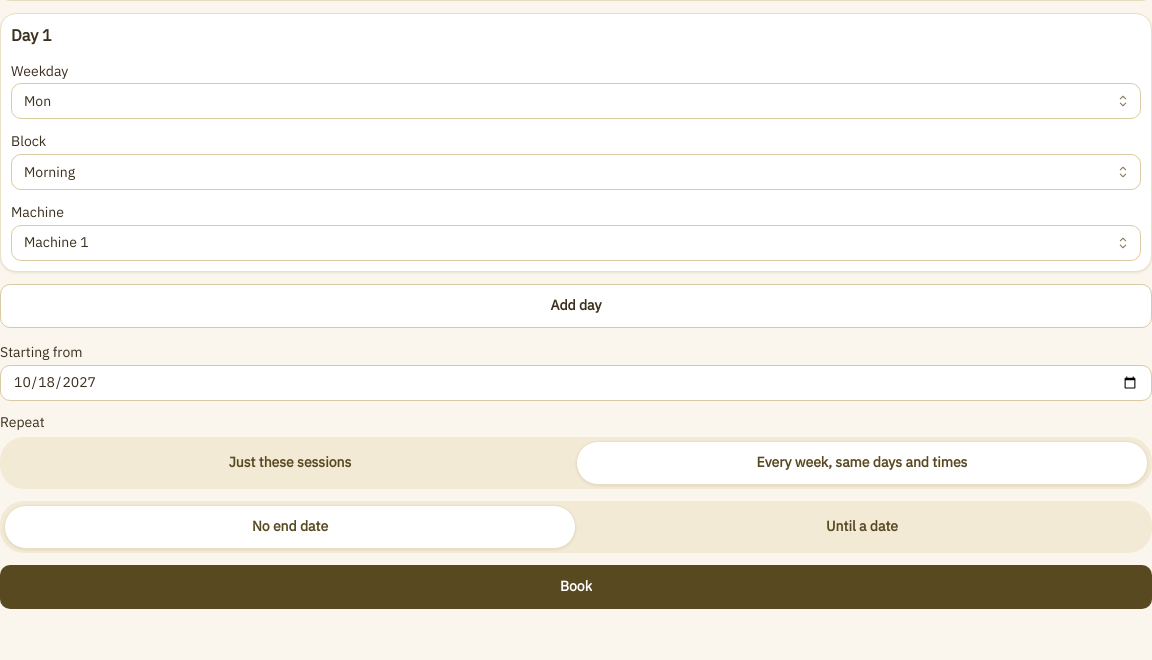
BookDialog › on slot_taken refetches the free list, clears the taken machine and shows the message
Expected: the field labelled "Machine" holds "Machine 1", [11,225,1141,261]
Click the button "Book" at (576, 587), box [0,565,1151,609]
(page scrolled)
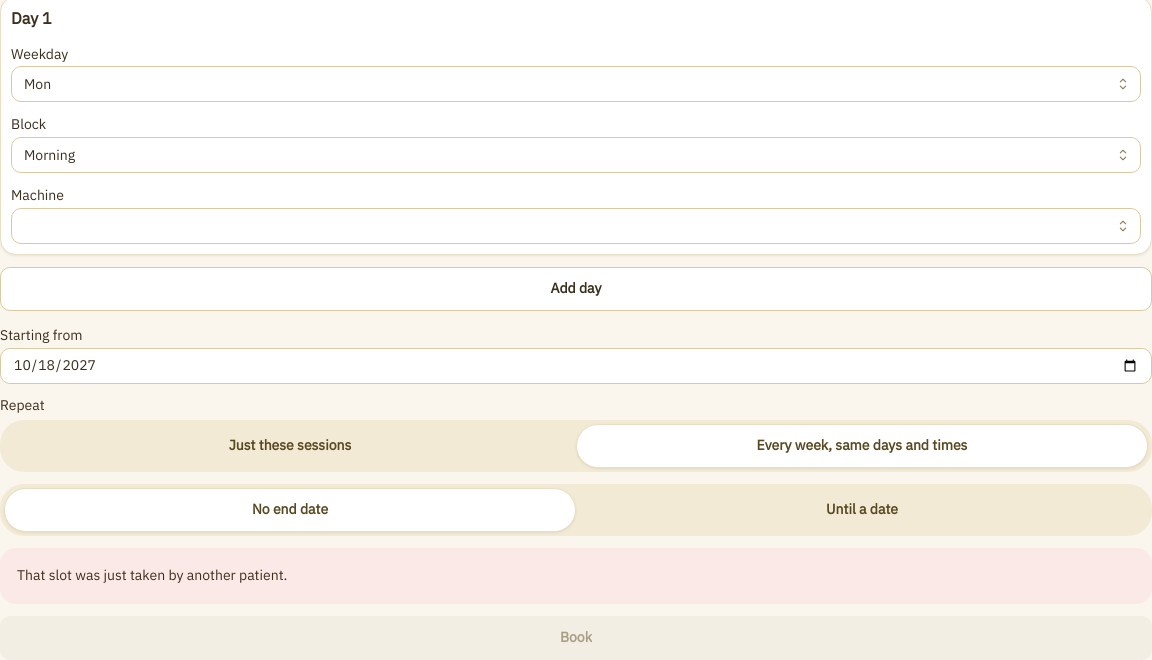
Result: the text "That slot was just taken by another patient." is shown at [17,565,287,586]
Result: the field labelled "Machine" is empty at [11,208,1141,244]
Result: the button "Book" is disabled at [0,616,1151,659]
